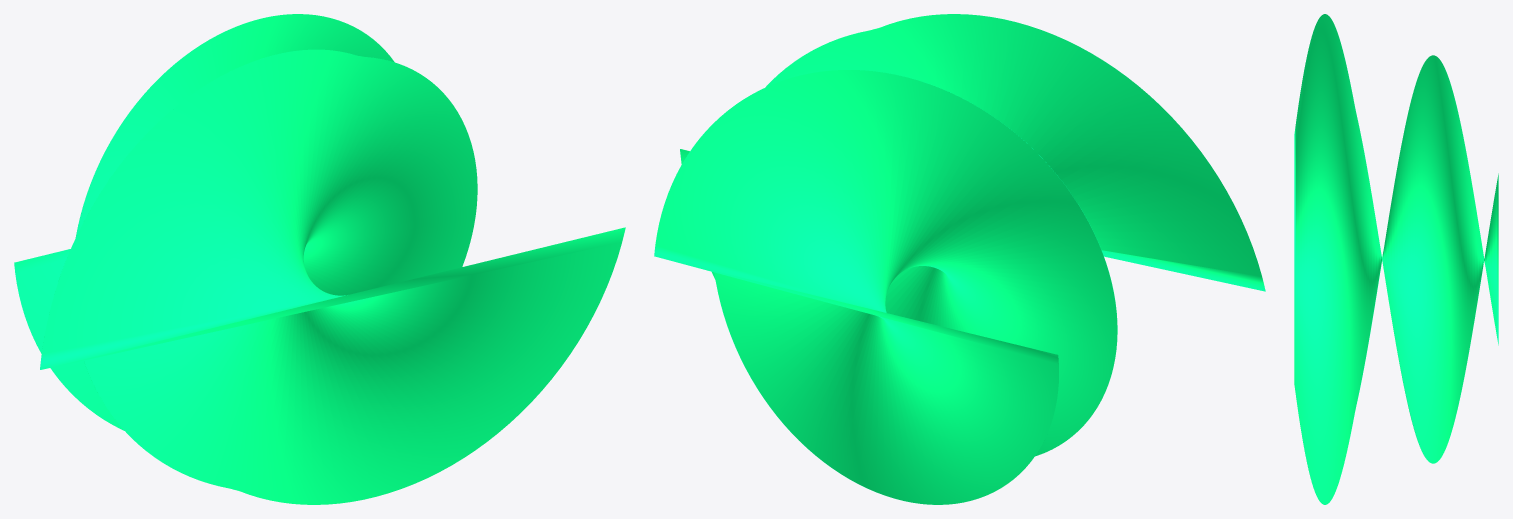
Rendered from dna_replication_algorithm_ar_universal.glb.
3 renders of one model, left to right at view 1: azimuth 30°, elevation 25°; view 2: azimuth 150°, elevation 25°; view 3: azimuth 270°, elevation 25°, orthographic. The views are drawn at different scales.
Parts seen in each view (by area): view 1: dna_replication_algorithm_ar; view 2: dna_replication_algorithm_ar; view 3: dna_replication_algorithm_ar.
Boxes of the visible parts, x1=… form: dna_replication_algorithm_ar: x1=14, y1=14, x2=625, y2=504; dna_replication_algorithm_ar: x1=654, y1=14, x2=1265, y2=504; dna_replication_algorithm_ar: x1=1294, y1=14, x2=1498, y2=504.
Bounding box in the file's own units: 1 × 0.7589 × 0.3448.
